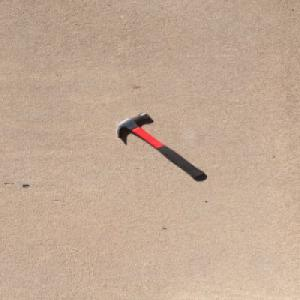Hammer: (114, 111, 207, 179)
